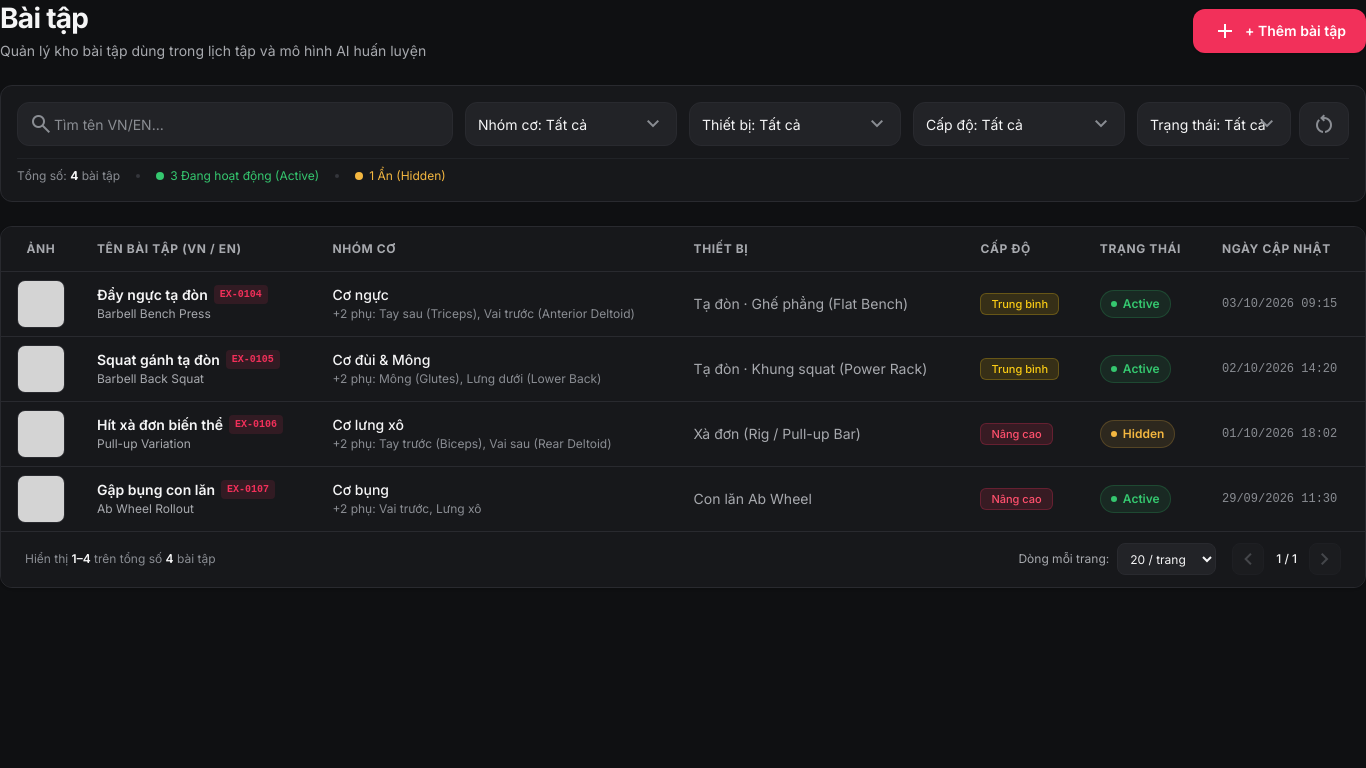
Scenario: ExerciseListPage › opens edit modal on exercise row click and allows deleting exercise
Click the text "Đẩy ngực tạ đòn" at (182,294), box [97, 285, 268, 304]
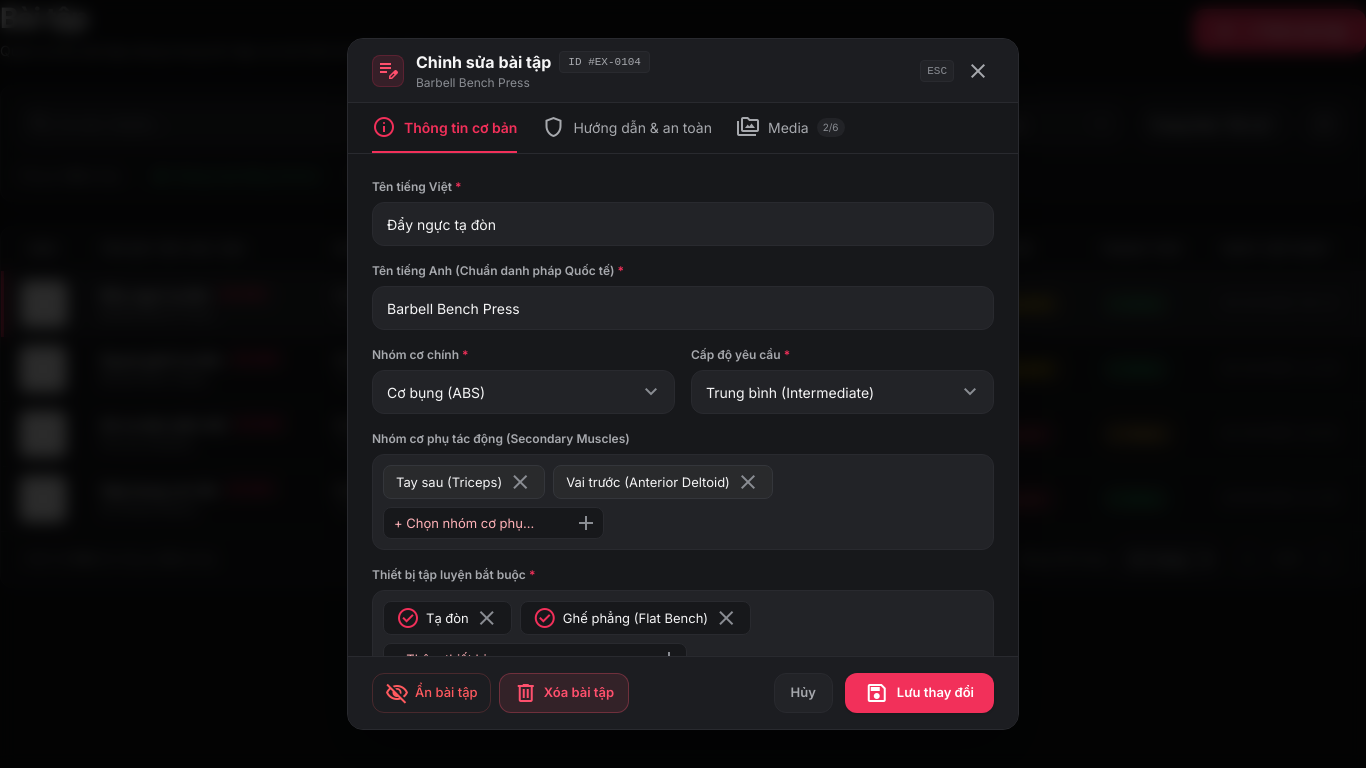
Expected: the heading "Chỉnh sửa bài tập" is shown, [416, 50, 551, 74]
Expected: the button "Xóa bài tập" is shown, [499, 673, 629, 713]
